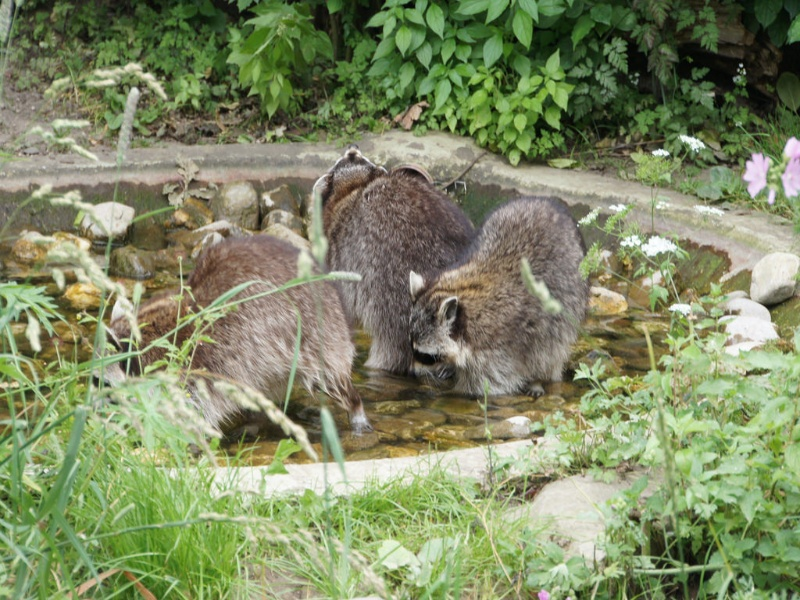raccoon: (142, 224, 362, 448), (407, 196, 589, 411), (336, 166, 474, 382)
